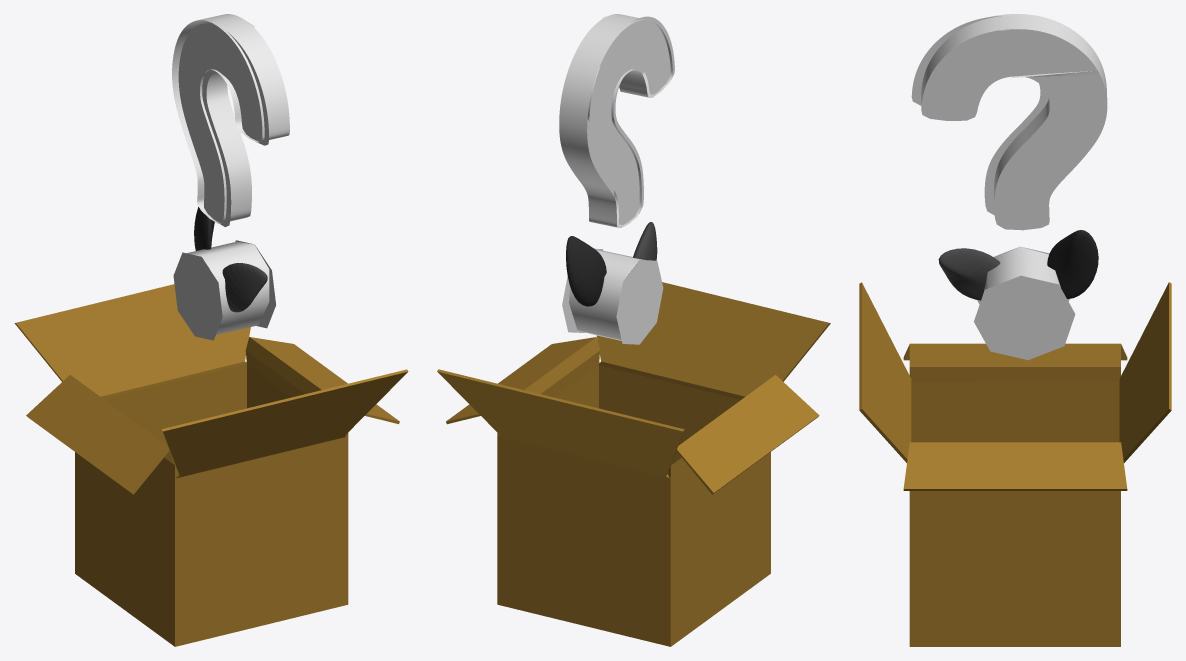
File: Mystery box.fbx
3 renders of one model, left to right at view 1: azimuth 30°, elevation 25°; view 2: azimuth 150°, elevation 25°; view 3: azimuth 270°, elevation 25°, orthographic. The views are drawn at different scales.
Parts seen in each view (by area): view 1: Cube, Text, Sphere, Sphere.001; view 2: Cube, Text, Sphere.001, Sphere; view 3: Cube, Text, Sphere.001, Sphere.
Boxes of the visible parts, x1=… form: Cube: x1=14, y1=284, x2=408, y2=646; Text: x1=172, y1=14, x2=289, y2=340; Sphere: x1=222, y1=263, x2=267, y2=312; Sphere.001: x1=194, y1=207, x2=214, y2=268; Cube: x1=437, y1=282, x2=830, y2=646; Text: x1=559, y1=14, x2=674, y2=344; Sphere.001: x1=566, y1=236, x2=606, y2=306; Sphere: x1=628, y1=222, x2=657, y2=274; Cube: x1=859, y1=282, x2=1171, y2=646; Text: x1=911, y1=14, x2=1107, y2=359; Sphere.001: x1=1047, y1=230, x2=1098, y2=298; Sphere: x1=938, y1=248, x2=1000, y2=300.
Bounding box in the file's own units: 309 × 618 × 296.
